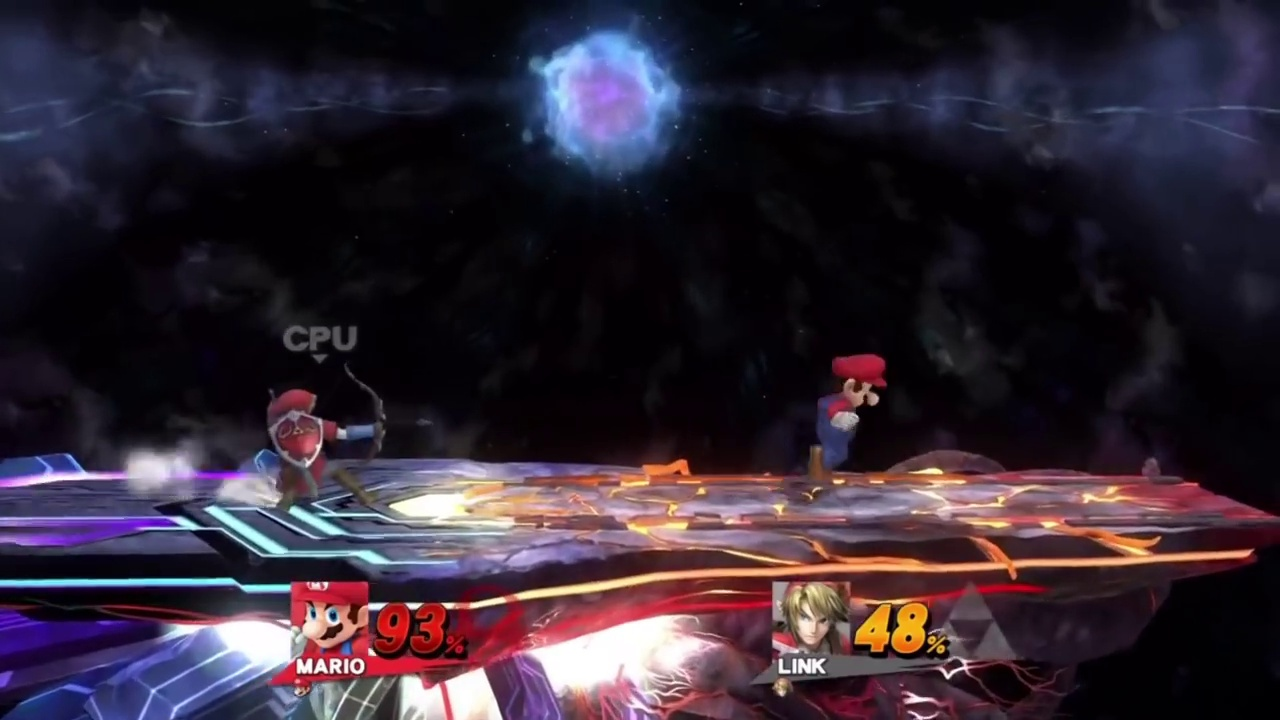Mario: (797, 355, 889, 474)
